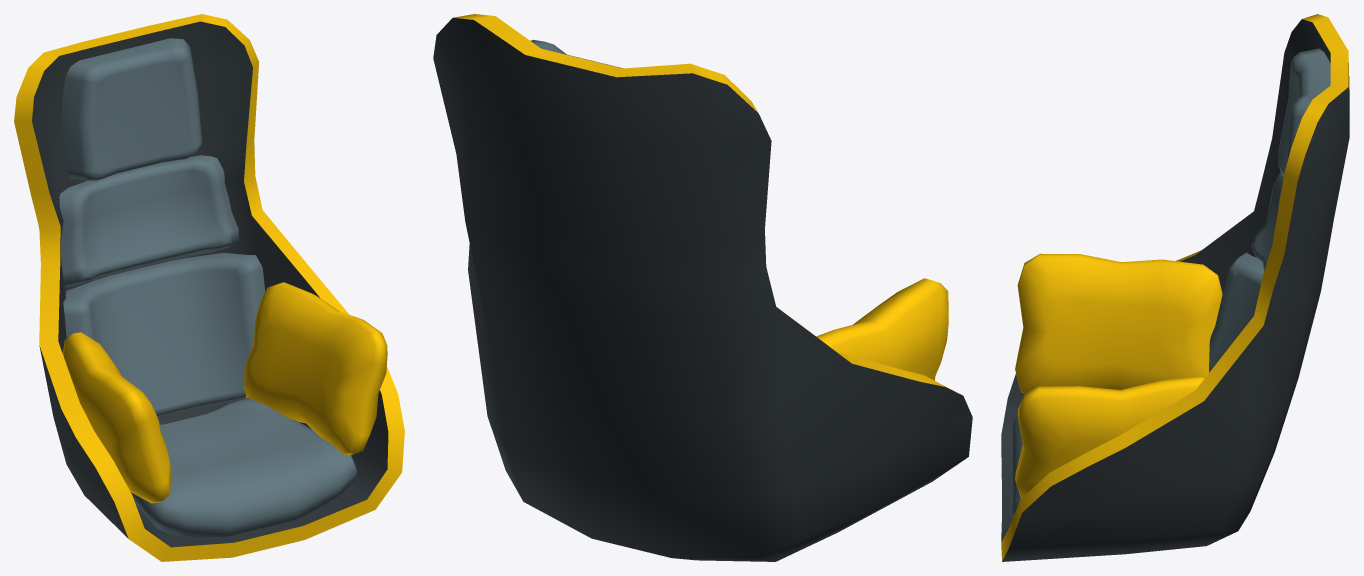
File: Armchair_004_Chair_01.fbx
The picture shows the model from 3 angles, left to right: view 1: azimuth 30°, elevation 25°; view 2: azimuth 150°, elevation 25°; view 3: azimuth 270°, elevation 25°; orthographic projection. The views are drawn at different scales.
Visible parts, largest first — view 1: Armchair_004_Chair_01; view 2: Armchair_004_Chair_01; view 3: Armchair_004_Chair_01.
Part boxes in pixels (x1,y1,x2,y2): Armchair_004_Chair_01: (14,14,404,561); Armchair_004_Chair_01: (433,14,972,561); Armchair_004_Chair_01: (1001,14,1349,561).
Size of the model in its own units: 88.17 by 76.88 by 111.
